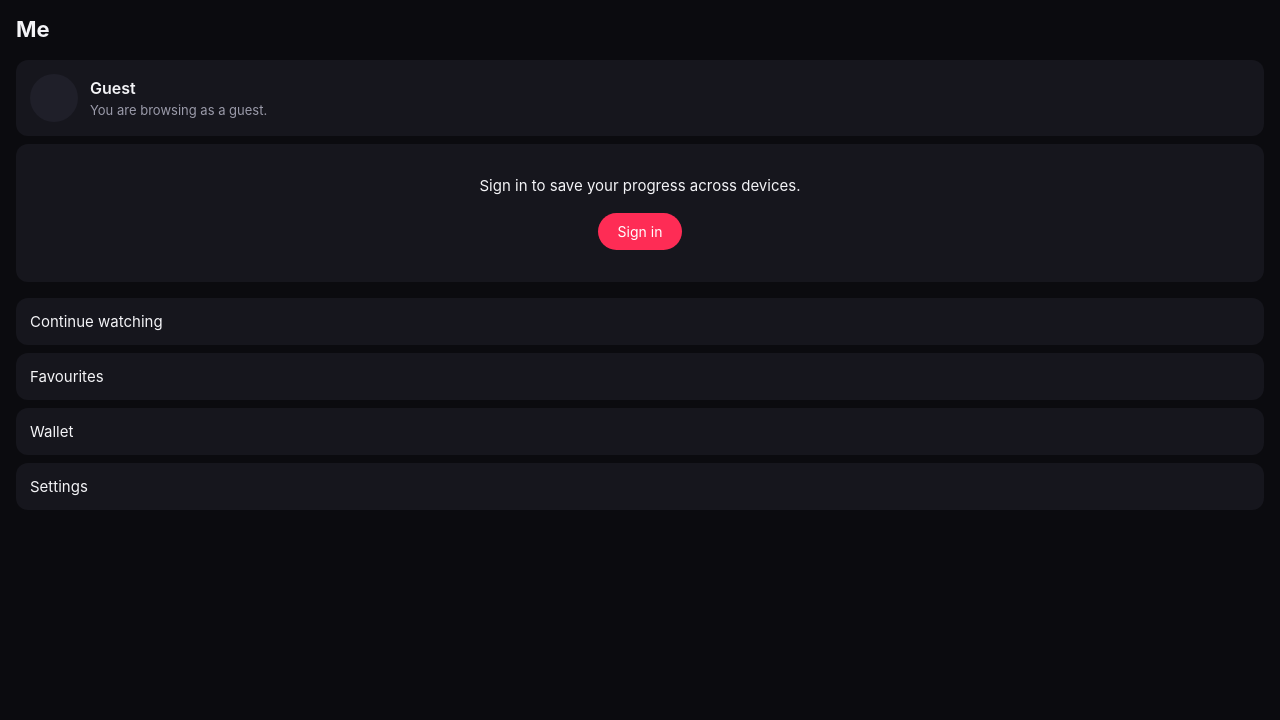
Test case: the profile shell › retries silent login from the card rather than navigating to a login screen
Step 1. Click the button with test id "sign-in" → (640, 231), box [598, 212, 682, 250]
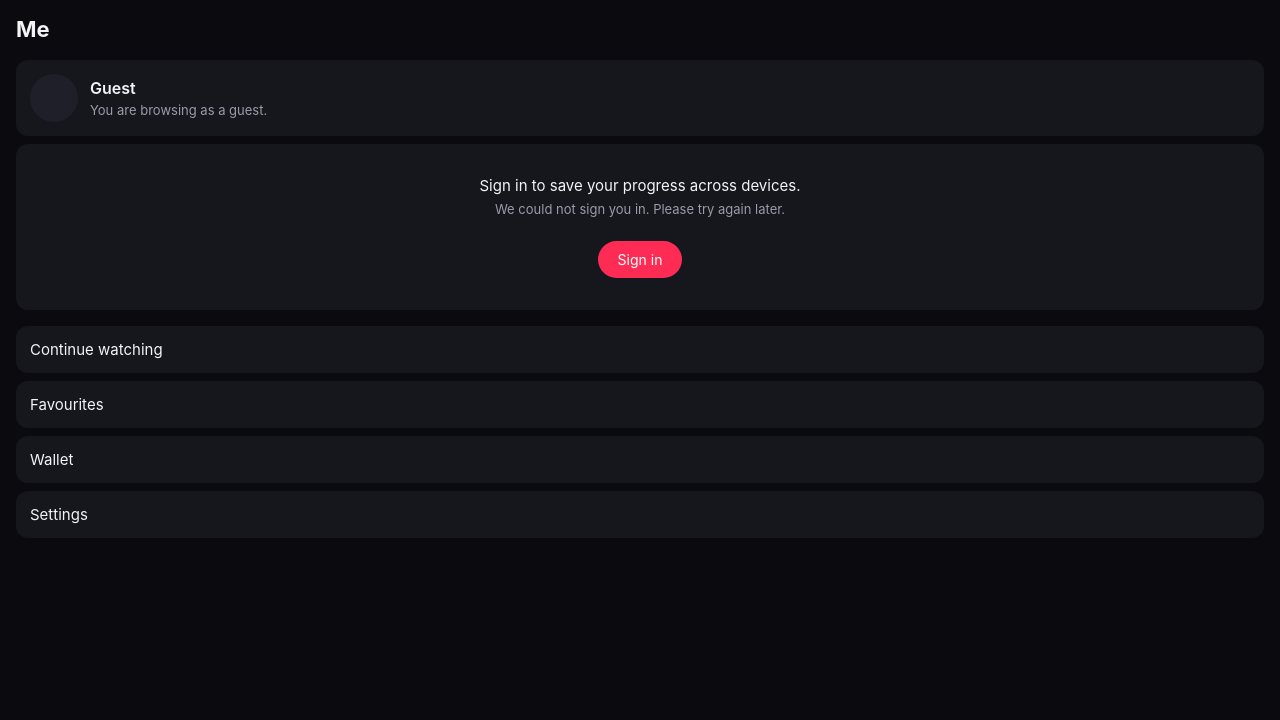
Result: the text "We could not sign you in. Please try again later." is shown at [495, 200, 785, 216]
